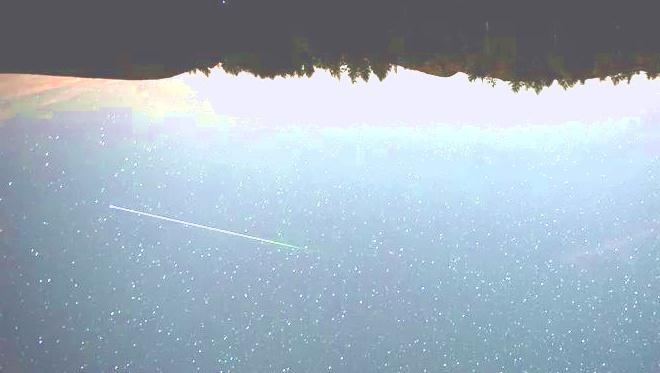meteorite: (93, 194, 309, 255)
